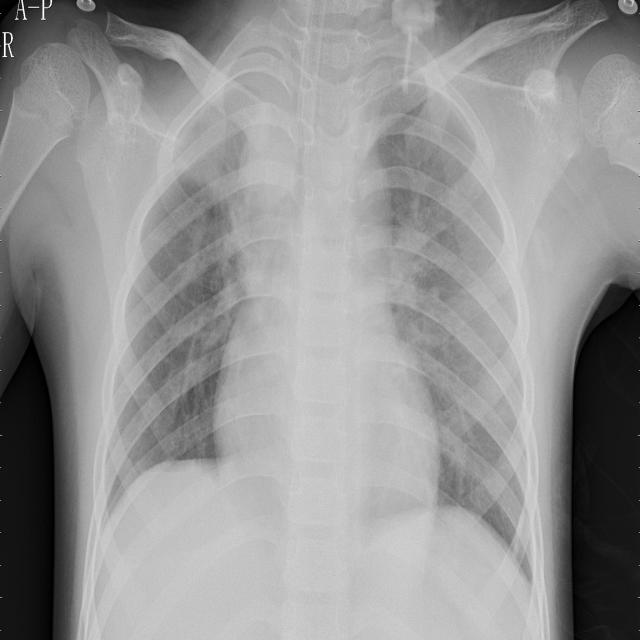low-pneumonia: (394, 212, 458, 377), (184, 96, 263, 198)
